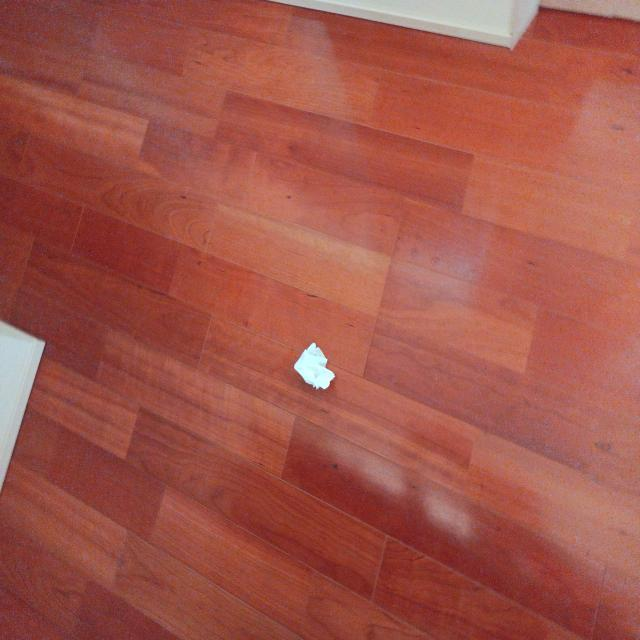Paper: (287, 337, 351, 401)
